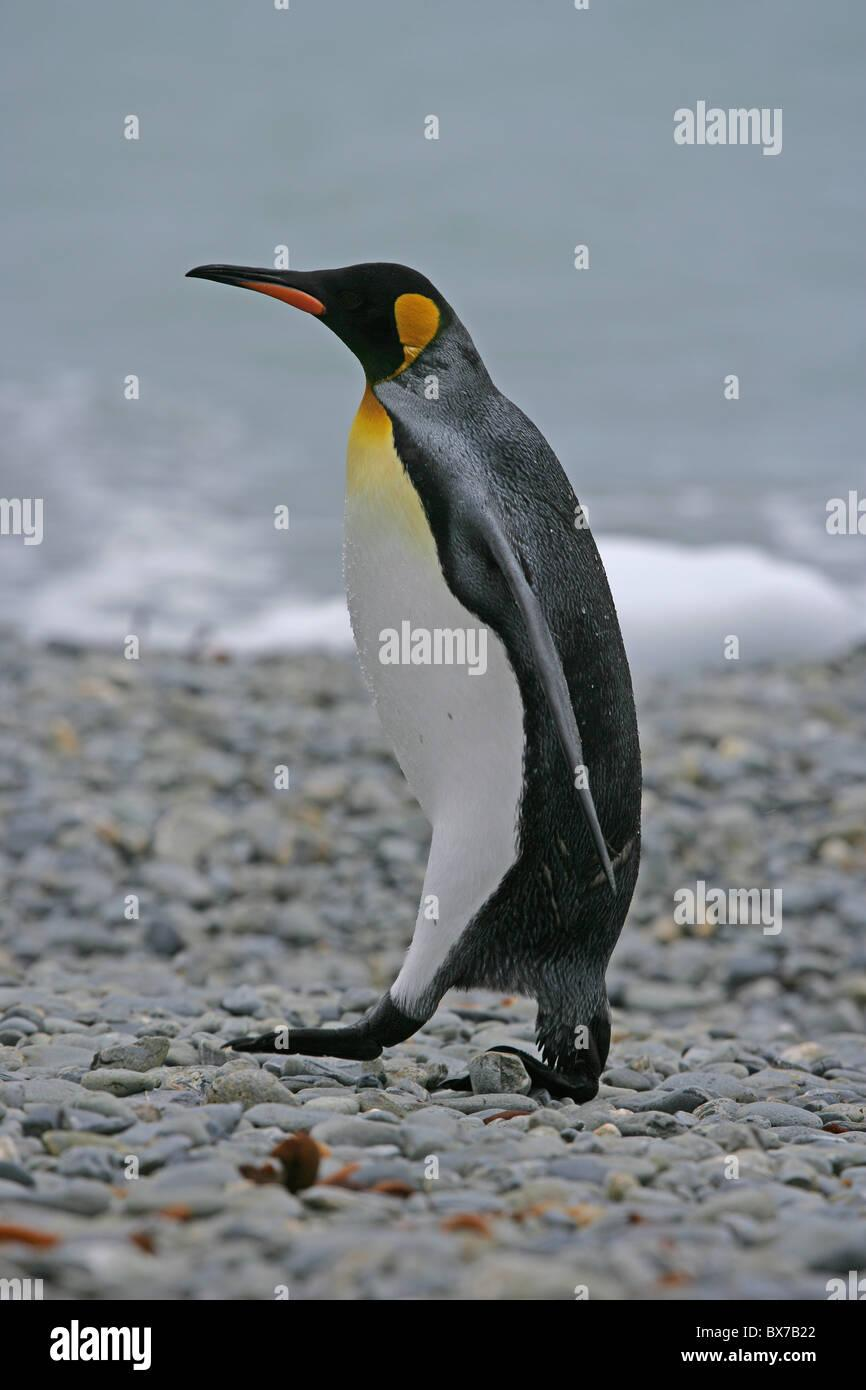king: (131, 200, 705, 1161)
